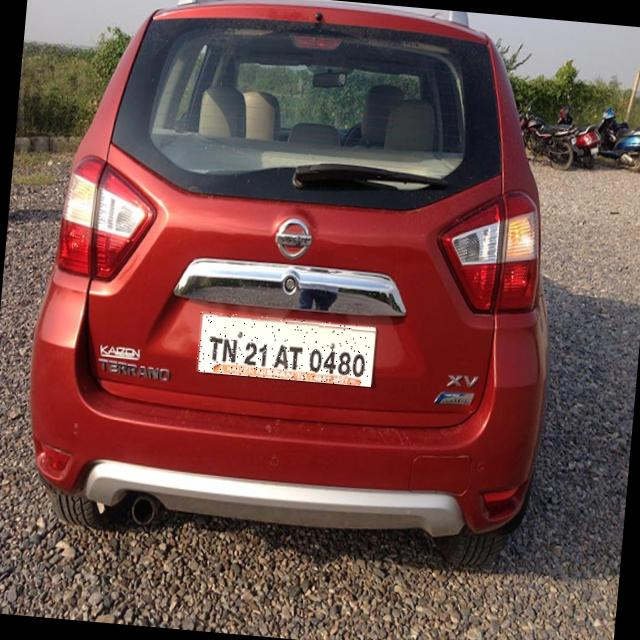Plate: (197, 312, 378, 388)
